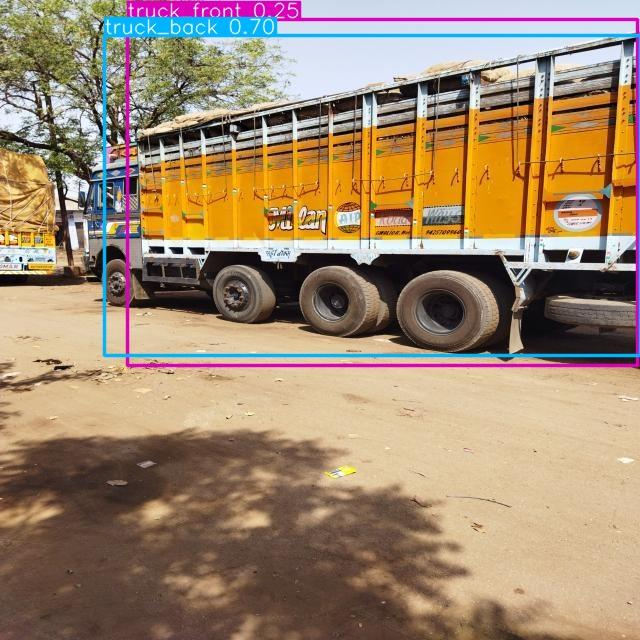truck_back: (71, 20, 640, 371), (0, 125, 63, 285)
